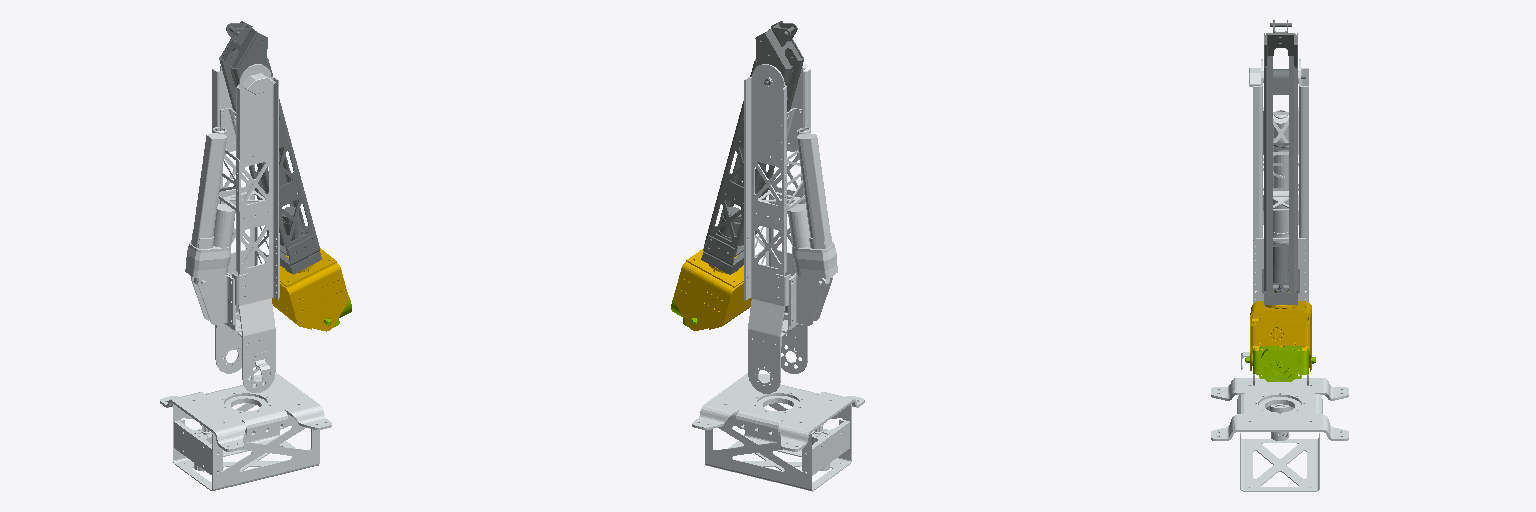
The robot description file, URDF, robot "manipulator":
<robot name="manipulator">

  <!-- Used for fixing robot to Gazebo 'base_link' -->
  <link name="world"/>

  <joint name="fixed" type="fixed">
    <parent link="world"/>
    <child link="base_link"/>
  </joint>

  <link name="base_link">
    <inertial>
      <origin xyz="-0.029 3.0957E-06 0.081458" rpy="0 0 0" />
      <mass value="1.404" />
      <inertia
        ixx="0.0018489"
        ixy="2.7417E-07"
        ixz="-0.0010428"
        iyy="0.0047182"
        iyz="1.219E-07"
        izz="0.0028693" />
    </inertial>
    <visual>
      <origin xyz="0 0 0" rpy="0 0 0" />
      <geometry>
        <mesh filename="package://manipulator/meshes/base_link.STL" />
      </geometry>
      <material name="">
        <color rgba="0.89804 0.91765 0.92941 1" />
      </material>
    </visual>
    <collision>
      <origin xyz="0 0 0" rpy="0 0 0" />
      <geometry>
        <mesh filename="package://manipulator/meshes/base_link.STL" />
      </geometry>
    </collision>
  </link>

 <link name="shoulder_link">
    <inertial>
      <origin xyz="-0.024603 0.0034265 0.064143" rpy="0 0 0" />
      <mass value="4.1214" />
      <inertia
        ixx="0.0033788"
        ixy="-0.00012922"
        ixz="-0.00014319"
        iyy="0.0069305"
        iyz="0.00013755"
        izz="0.0071412" />
    </inertial>
    <visual>
      <origin xyz="0 0 0" rpy="0 0 0" />
      <geometry>
        <mesh filename="package://manipulator/meshes/shoulder_link.STL" />
      </geometry>
      <material name="">
        <color rgba="0.4 0.8 1.0 1" />
      </material>
    </visual>
    <collision>
      <origin xyz="0 0 0" rpy="0 0 0" />
      <geometry>
        <mesh filename="package://manipulator/meshes/shoulder_link.STL" />
      </geometry>
    </collision>
  </link>

  <joint name="shoulder_rotation" type="revolute">
    <origin xyz="0 0 0.13" rpy="0 0 0" />
    <parent link="base_link" />
    <child link="shoulder_link" />
    <axis xyz="0 0 1" />
    <dynamics damping="0.2" friction="1"/>
    <limit
      lower="-3.14"
      upper="3.14"
      effort="50"
      velocity="8.3776" />
  </joint>

  <transmission name="shoulder_rotation_transmission">
    <type>transmission_interface/SimpleTransmission</type>
    <joint name="shoulder_rotation">
      <hardwareInterface>hardware_interface/VelocityJointInterface</hardwareInterface>
    </joint>
    <actuator name="shoulder_rotation_motor">
      <mechanicalReduction>1.5</mechanicalReduction>
      <hardwareInterface>hardware_interface/VelocityJointInterface</hardwareInterface>
    </actuator>
  </transmission>

  <link name="forearm_link">
    <inertial>
      <origin xyz="-0.030709 0.2846 0.0021162" rpy="0 0 0" />
      <mass value="2.138" />
      <inertia
        ixx="0.025172"
        ixy="-0.002607"
        ixz="-0.00013892"
        iyy="0.0043441"
        iyz="-0.00060463"
        izz="0.026065" />
    </inertial>
    <visual>
      <origin xyz="0 0 0" rpy="0 0 0" />
      <geometry>
        <mesh filename="package://manipulator/meshes/forearm_link.STL" />
      </geometry>
      <material name="">
        <color rgba="0.89804 0.91765 0.92941 1" />
      </material>
    </visual>
    <collision>
      <origin xyz="0 0 0" rpy="0 0 0" />
      <geometry>
        <mesh filename="package://manipulator/meshes/forearm_link.STL" />
      </geometry>
    </collision>
  </link>

  <joint name="forearm_rotation"
    type="revolute">
    <origin xyz="0 0.00175 0.0705" rpy="1.5708 0 0" />
    <parent link="shoulder_link" />
    <child link="forearm_link" />
    <axis xyz="0 0 1" />
    <dynamics damping="0.7" friction="20"/>
    <limit
      lower="-0.90"
      upper="1.3963"
      effort="2000"
      velocity="1.2" />
  </joint>

  <transmission name="forearm_rotation_transmission">
      <type>transmission_interface/SimpleTransmission</type>
      <joint name="forearm_rotation">
        <hardwareInterface>hardware_interface/VelocityJointInterface</hardwareInterface>
      </joint>
      <actuator name="forearm_rotation_motor">
        <mechanicalReduction>157</mechanicalReduction>
        <hardwareInterface>hardware_interface/VelocityJointInterface</hardwareInterface>
      </actuator>
   </transmission>

  <link name="arm_link">
    <inertial>
      <origin xyz="0.1767 0.0069722 5.0223E-06" rpy="0 0 0" />
      <mass value="1.1195" />
      <inertia
        ixx="0.00045953"
        ixy="-4.6934E-05"
        ixz="1.8433E-06"
        iyy="0.023018"
        iyz="1.4945E-07"
        izz="0.022579" />
    </inertial>
    <visual>
      <origin xyz="0 0 0" rpy="0 0 0" />
      <geometry>
        <mesh filename="package://manipulator/meshes/arm_link.STL" />
      </geometry>
      <material
        name="">
        <color rgba="0.52941 0.54902 0.54902 1" />
      </material>
    </visual>
    <collision>
      <origin xyz="0 0 0" rpy="0 0 0" />
      <geometry>
        <mesh filename="package://manipulator/meshes/arm_link.STL" />
      </geometry>
    </collision>
  </link>

  <joint name="arm_rotation" type="revolute">
    <origin xyz="0 0.6 0" rpy="0 0 -1.3089" />
    <parent link="forearm_link" />
    <child link="arm_link" />
    <axis xyz="0 0 -1" />
    <dynamics damping="0.7" friction="20"/>
    <limit
      lower="-2.5"
      upper="0"
      effort="1000"
      velocity="0.2" />
  </joint>

  <transmission name="arm_rotation_transmission">
      <type>transmission_interface/SimpleTransmission</type>
      <joint name="arm_rotation">
        <hardwareInterface>hardware_interface/VelocityJointInterface</hardwareInterface>
      </joint>
      <actuator name="arm_rotation_motor">
        <mechanicalReduction>1</mechanicalReduction>
        <hardwareInterface>hardware_interface/VelocityJointInterface</hardwareInterface>
      </actuator>
   </transmission>

  <link name="wrist_rotation_link">
    <inertial>
      <origin xyz="0.00022986 -0.0044455 0.068045" rpy="0 0 0" />
      <mass value="0.70662" />
      <inertia
        ixx="0.00073736"
        ixy="-5.029E-05"
        ixz="-2.7832E-06"
        iyy="0.00091775"
        iyz="5.4552E-05"
        izz="0.0012144" />
    </inertial>
    <visual>
      <origin xyz="0 0 0" rpy="0 0 0" />
      <geometry>
        <mesh filename="package://manipulator/meshes/wrist_rotation_link.STL" />
      </geometry>
      <material name="">
        <color rgba="0.9 0.72 0 1" />
      </material>
    </visual>
    <collision>
      <origin xyz="0 0 0" rpy="0 0 0" />
      <geometry>
        <mesh filename="package://manipulator/meshes/wrist_rotation_link.STL" />
      </geometry>
    </collision>
  </link>

  <joint name="wrist_rotation" type="revolute">
    <origin xyz="0.408 0.005 0" rpy="0 1.5708 0" />
    <parent link="arm_link" />
    <child link="wrist_rotation_link" />
    <axis xyz="0 0 -1" />
    <dynamics damping="0.0" friction="1"/>
    <limit
      lower="-3.14"
      upper="3.14"
      effort="54"
      velocity="8.3776" />
  </joint>

 <transmission name="wrist_rotation_transmission">
      <type>transmission_interface/SimpleTransmission</type>
      <joint name="wrist_rotation">
        <hardwareInterface>hardware_interface/VelocityJointInterface</hardwareInterface>
      </joint>
      <actuator name="wrist_rotation_motor">
        <mechanicalReduction>1</mechanicalReduction>
        <hardwareInterface>hardware_interface/VelocityJointInterface</hardwareInterface>
      </actuator>
  </transmission>

  <link name="wrist_pitch_link">
    <inertial>
      <origin xyz="0.02283 1.6924E-05 4.4001E-05" rpy="0 0 0" />
      <mass value="0.22279" />
      <inertia
        ixx="8.4052E-05"
        ixy="8.7929E-08"
        ixz="-3.0476E-07"
        iyy="0.00016875"
        iyz="4.7854E-08"
        izz="8.4698E-05" />
    </inertial>
    <visual>
      <origin xyz="0 0 0" rpy="0 0 0" />
      <geometry>
        <mesh filename="package://manipulator/meshes/wrist_pitch_link.STL" />
      </geometry>
      <material name="">
        <color rgba="0.6 0.8 0 1" />
      </material>
    </visual>
    <collision>
      <origin xyz="0 0 0" rpy="0 0 0" />
      <geometry>
        <mesh filename="package://manipulator/meshes/wrist_pitch_link.STL" />
      </geometry>
    </collision>
  </link>

  <joint
    name="wrist_pitch"
    type="revolute">
    <origin xyz="0 0 0.129" rpy="-1.5708 0 1.603" />
    <parent link="wrist_rotation_link" />
    <child link="wrist_pitch_link" />
    <dynamics damping="0.0" friction="0.5"/>
    <axis xyz="0 0 -1" />
    <limit
      lower="0"
      upper="3.14"
      effort="21.6"
      velocity="5.236" />
  </joint>

 <link name="gripper_link">
    <inertial>
      <origin xyz="0.00062878 0.0062787 0.096632" rpy="0 0 0" />
      <mass value="0.52227" />
      <inertia
        ixx="0.0022506"
        ixy="-1.61E-06"
        ixz="-2.3088E-05"
        iyy="0.0026696"
        iyz="0.00015523"
        izz="0.00081423" />
    </inertial>
    <visual>
      <origin xyz="0 0 0" rpy="0 0 0" />
      <geometry>
        <mesh filename="package://manipulator/meshes/gripper_link.STL" />
      </geometry>
      <material name="">
        <color rgba="0.8 0.2 0.0 1" />
      </material>
    </visual>
    <collision>
      <origin xyz="0 0 0" rpy="0 0 0" />
      <geometry>
        <mesh filename="package://manipulator/meshes/gripper_link.STL" />
      </geometry>
    </collision>
  </link>

  <joint
    name="gripper_rotation"
    type="revolute">
    <origin xyz="0.0643 0 0" rpy="0 1.5708 0" />
    <parent link="wrist_pitch_link" />
    <child link="gripper_link" />
    <dynamics damping="0.0" friction="0.1"/>
    <axis xyz="0 0 -1" />
    <limit
      lower="-3.14"
      upper="3.14"
      effort="21.6"
      velocity="5.236" />
  </joint>

  <transmission name="wrist_pitch_transmission">
      <type>transmission_interface/SimpleTransmission</type>
      <actuator name="wrist_pitch_motor">
        <mechanicalReduction>1.2</mechanicalReduction>
        <hardwareInterface>hardware_interface/VelocityJointInterface</hardwareInterface>
      </actuator>
      <joint name="wrist_pitch">
        <hardwareInterface>hardware_interface/VelocityJointInterface</hardwareInterface>
      </joint>
  </transmission>

  <transmission name="gripper_rotation_transmission">
        <type>transmission_interface/SimpleTransmission</type>
        <actuator name="gripper_rotation_motor">
          <mechanicalReduction>1.2</mechanicalReduction>
          <hardwareInterface>hardware_interface/VelocityJointInterface</hardwareInterface>
        </actuator>
        <joint name="gripper_rotation">
          <hardwareInterface>hardware_interface/VelocityJointInterface</hardwareInterface>
        </joint>
  </transmission>


  <!-- Gazebo definitions -->

    <gazebo>
      <self_collide>true</self_collide>

    </gazebo>

    <gazebo reference="base_link">
      <material>Gazebo/White</material>
      <gravity>true</gravity>
      <kp>1000000.0</kp>
      <kd>100.0</kd>
      <mu1>30.0</mu1>
      <mu2>30.0</mu2>
      <maxVel>1.0</maxVel>
      <minDepth>0.001</minDepth>
    </gazebo>

    <gazebo reference="shoulder_link">
      <material>Gazebo/Blue</material>
      <gravity>true</gravity>
      <kp>1000000.0</kp>
      <kd>100.0</kd>
      <mu1>0.6</mu1>
      <mu2>0.6</mu2>
      <minDepth>0.001</minDepth>
    </gazebo>

    <gazebo reference="forearm_link">
      <material>Gazebo/White</material>
      <gravity>true</gravity>
      <kp>1000000.0</kp>
      <kd>100.0</kd>
      <mu1>0.6</mu1>
      <mu2>0.6</mu2>
      <minDepth>0.001</minDepth>
    </gazebo>

    <gazebo reference="arm_link">
      <material>Gazebo/Gray</material>
      <gravity>true</gravity>
      <kp>1000000.0</kp>
      <kd>100.0</kd>
      <mu1>0.6</mu1>
      <mu2>0.6</mu2>
      <minDepth>0.001</minDepth>
    </gazebo>

    <gazebo reference="wrist_rotation_link">
      <material>Gazebo/Orange</material>
      <gravity>true</gravity>
      <kp>1000000.0</kp>
      <kd>100.0</kd>
      <mu1>0.6</mu1>
      <mu2>0.6</mu2>
      <minDepth>0.001</minDepth>
    </gazebo>

    <gazebo reference="wrist_pitch_link">
      <material>Gazebo/Green</material>
      <gravity>true</gravity>
      <kp>1000000.0</kp>
      <kd>100.0</kd>
      <mu1>0.6</mu1>
      <mu2>0.6</mu2>
      <minDepth>0.001</minDepth>
    </gazebo>

    <gazebo reference="gripper_link">
      <material>Gazebo/Red</material>
      <gravity>true</gravity>
      <kp>1000000.0</kp>
      <kd>100.0</kd>
      <mu1>0.6</mu1>
      <mu2>0.6</mu2>
      <minDepth>0.001</minDepth>
    </gazebo>

    <gazebo>
      <plugin name="gazebo_ros_control" filename="libgazebo_ros_control.so">
        <robotNamespace>/manipulator</robotNamespace>
        <controlPeriod>0.001</controlPeriod>
        <robotParam>robot_description</robotParam>
      </plugin>
    </gazebo>

</robot>

--- Render facts (derived) ---
Views: 3 orthographic renders of the robot side by side, from view 1: azimuth 30°, elevation 25°; view 2: azimuth 150°, elevation 25°; view 3: azimuth 270°, elevation 25°.
Model manipulator with 8 links and 7 joints (6 revolute, 1 fixed), rooted at world, posed all joints at 0.
Visible links, largest first — view 1: forearm_link, base_link, arm_link, wrist_rotation_link; view 2: forearm_link, base_link, arm_link, wrist_rotation_link; view 3: base_link, forearm_link, arm_link, wrist_rotation_link, wrist_pitch_link.
Link boxes in pixels (left/top/right/bottom): forearm_link: left=185, top=64, right=279, bottom=392; base_link: left=160, top=373, right=331, bottom=490; arm_link: left=219, top=21, right=321, bottom=274; wrist_rotation_link: left=272, top=248, right=348, bottom=331; forearm_link: left=744, top=62, right=837, bottom=393; base_link: left=692, top=373, right=864, bottom=491; arm_link: left=701, top=21, right=803, bottom=274; wrist_rotation_link: left=674, top=248, right=751, bottom=330; base_link: left=1211, top=378, right=1348, bottom=491; forearm_link: left=1241, top=59, right=1308, bottom=385; arm_link: left=1262, top=20, right=1305, bottom=304; wrist_rotation_link: left=1250, top=291, right=1311, bottom=371; wrist_pitch_link: left=1245, top=346, right=1315, bottom=381.
Size in the robot's own frame: 0.3364 by 0.2602 by 0.9079 metres.
Meshes: 7 distinct files referenced, 5 mesh visuals loaded (5 binary STL); not drawn: 2 (reference not matched to a file when rendering).